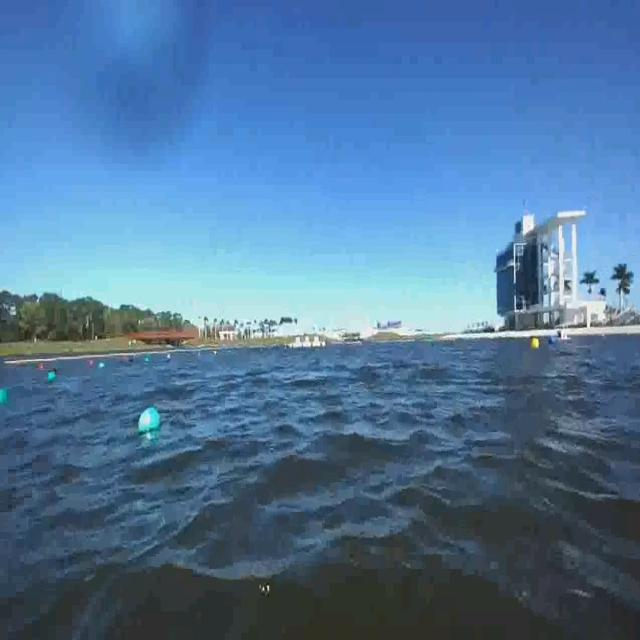green-buoy: (140, 408, 162, 435), (0, 388, 9, 404), (47, 372, 56, 384)
yellow-buoy: (534, 337, 543, 353)
